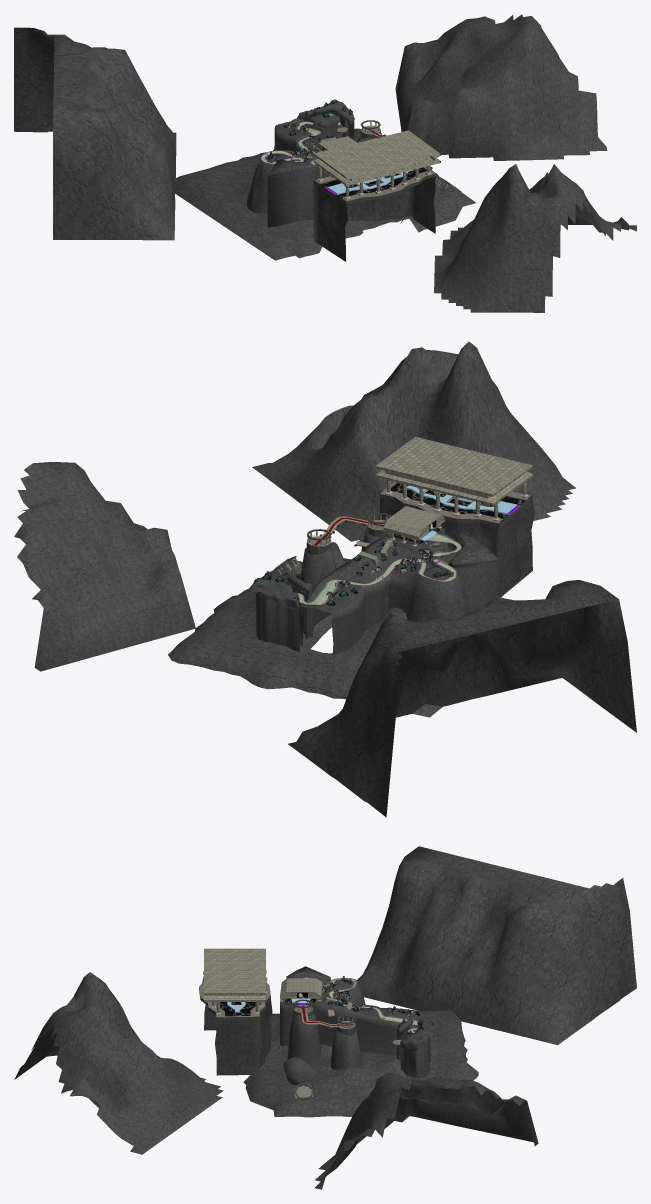
The picture shows the model from 3 angles, top to bottom: view 1: azimuth 30°, elevation 25°; view 2: azimuth 150°, elevation 25°; view 3: azimuth 270°, elevation 25°; orthographic projection. The views are drawn at different scales.
Parts seen in each view (by area): view 1: snowandrocks.001, pilar.003, templewall.001, templefloor.001, wasser.001, road.036, eis.001; view 2: snowandrocks.001, pilar.003, templewall.001, road.036, templefloor.001, wasser.001, eis.001; view 3: snowandrocks.001, pilar.003, templewall.001, templefloor.001.
Part boxes in pixels (bbox=[...]): snowandrocks.001: bbox=[14, 14, 636, 312]; pilar.003: bbox=[301, 121, 448, 197]; templewall.001: bbox=[306, 120, 453, 204]; templefloor.001: bbox=[307, 126, 442, 201]; wasser.001: bbox=[321, 167, 426, 197]; road.036: bbox=[260, 113, 340, 164]; eis.001: bbox=[328, 169, 413, 194]; snowandrocks.001: bbox=[14, 341, 636, 817]; pilar.003: bbox=[277, 437, 532, 579]; templewall.001: bbox=[275, 482, 532, 576]; road.036: bbox=[297, 533, 461, 604]; templefloor.001: bbox=[282, 482, 530, 574]; wasser.001: bbox=[390, 483, 524, 543]; eis.001: bbox=[406, 485, 517, 541]; snowandrocks.001: bbox=[14, 846, 636, 1189]; pilar.003: bbox=[203, 948, 363, 1100]; templewall.001: bbox=[199, 987, 355, 1099]; templefloor.001: bbox=[199, 981, 401, 1097].
Bounding box in the file's own units: 377568 × 100626 × 412096.
Materials: 26 (26 with a texture image).
